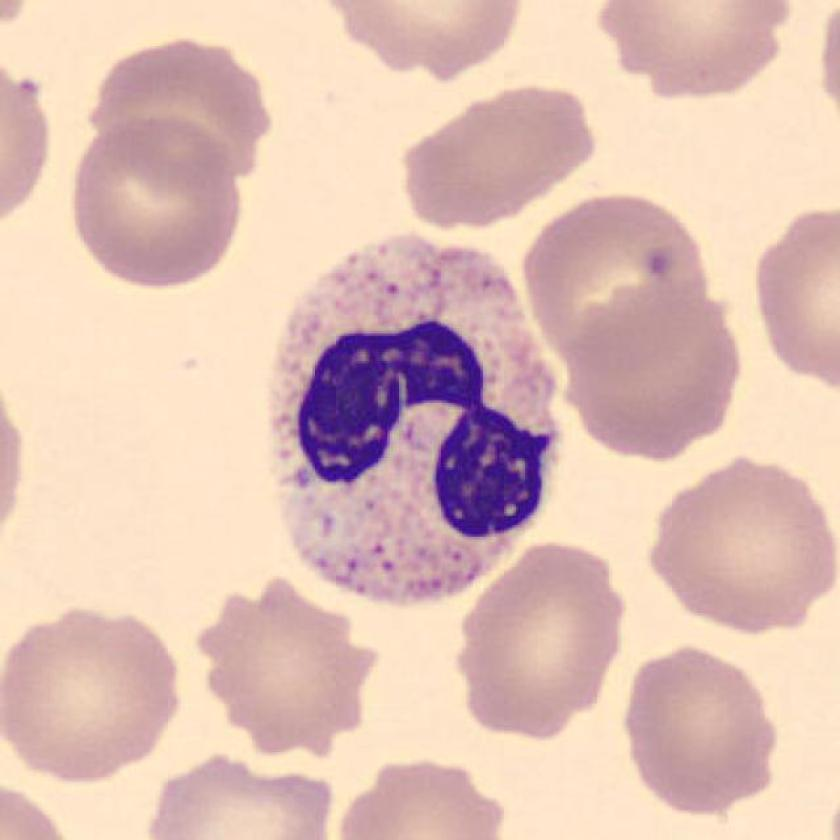neutrophil: (270, 238, 556, 600)
